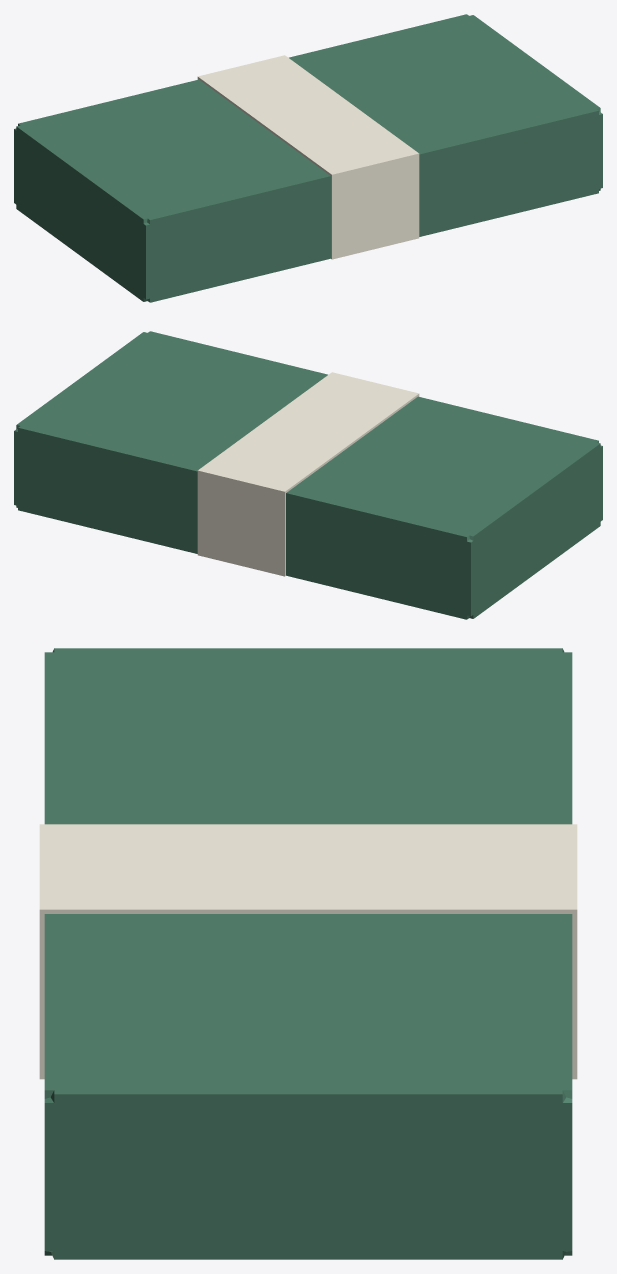
Rendered from cash_bundle.glb.
The picture shows the model from 3 angles, top to bottom: view 1: azimuth 30°, elevation 25°; view 2: azimuth 150°, elevation 25°; view 3: azimuth 270°, elevation 25°; orthographic projection. The views are drawn at different scales.
Visible parts, largest first — view 1: Cash_Bundle; view 2: Cash_Bundle; view 3: Cash_Bundle.
Boxes of the visible parts, x1,y1,x2,y2 form: Cash_Bundle: [14, 14, 602, 302]; Cash_Bundle: [14, 331, 602, 619]; Cash_Bundle: [39, 648, 577, 1259].
Size of the model in its own units: 2.2 by 0.39 by 1.12.
